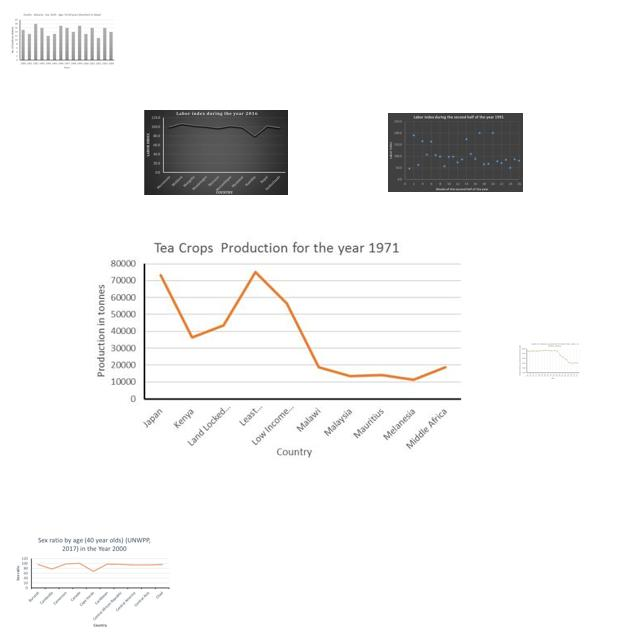Graph: (88, 236, 466, 460), (12, 535, 172, 630), (144, 110, 288, 195), (388, 113, 523, 192), (9, 11, 116, 70), (518, 342, 580, 380)
